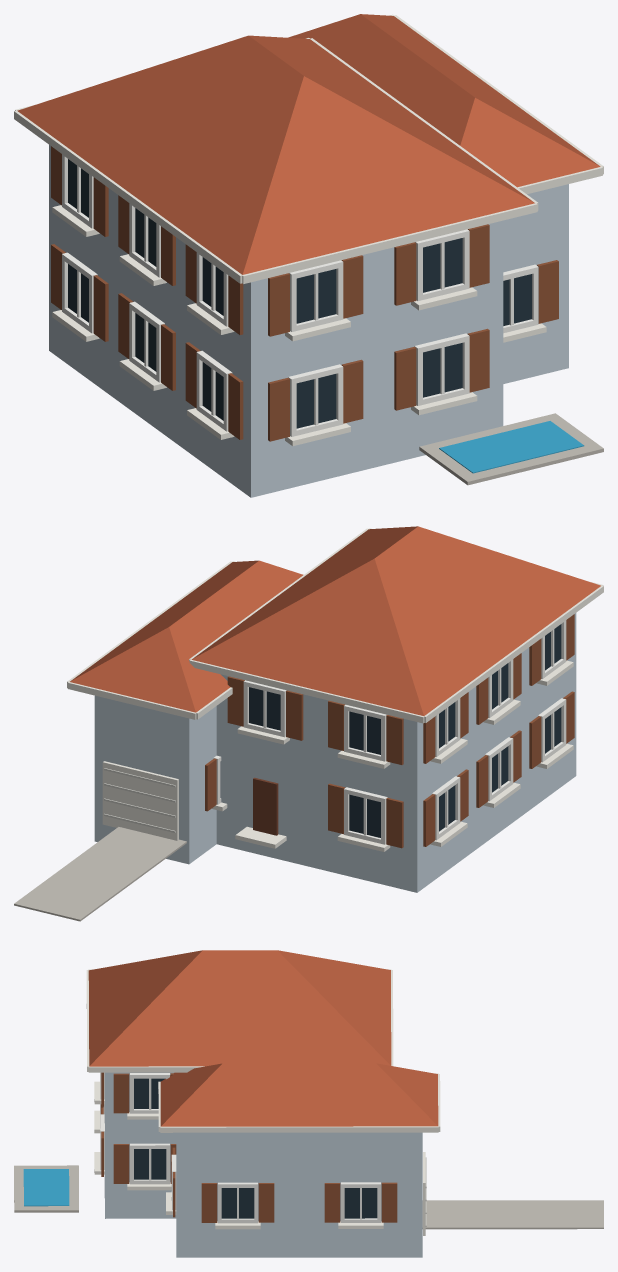
3 renders of one model, top to bottom at view 1: azimuth 30°, elevation 25°; view 2: azimuth 150°, elevation 25°; view 3: azimuth 270°, elevation 25°, orthographic. The views are drawn at different scales.
Parts seen in each view (by area): view 1: b3276; view 2: b3276; view 3: b3276.
Boxes of the visible parts, bbox=[...] form: b3276: bbox=[14, 14, 603, 497]; b3276: bbox=[14, 526, 603, 921]; b3276: bbox=[14, 950, 603, 1257].
Size of the model in its own units: 5008 by 3864 by 9100.
